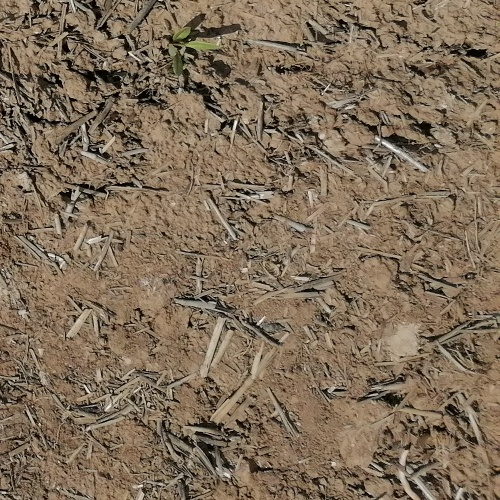beet: (162, 26, 222, 73)
